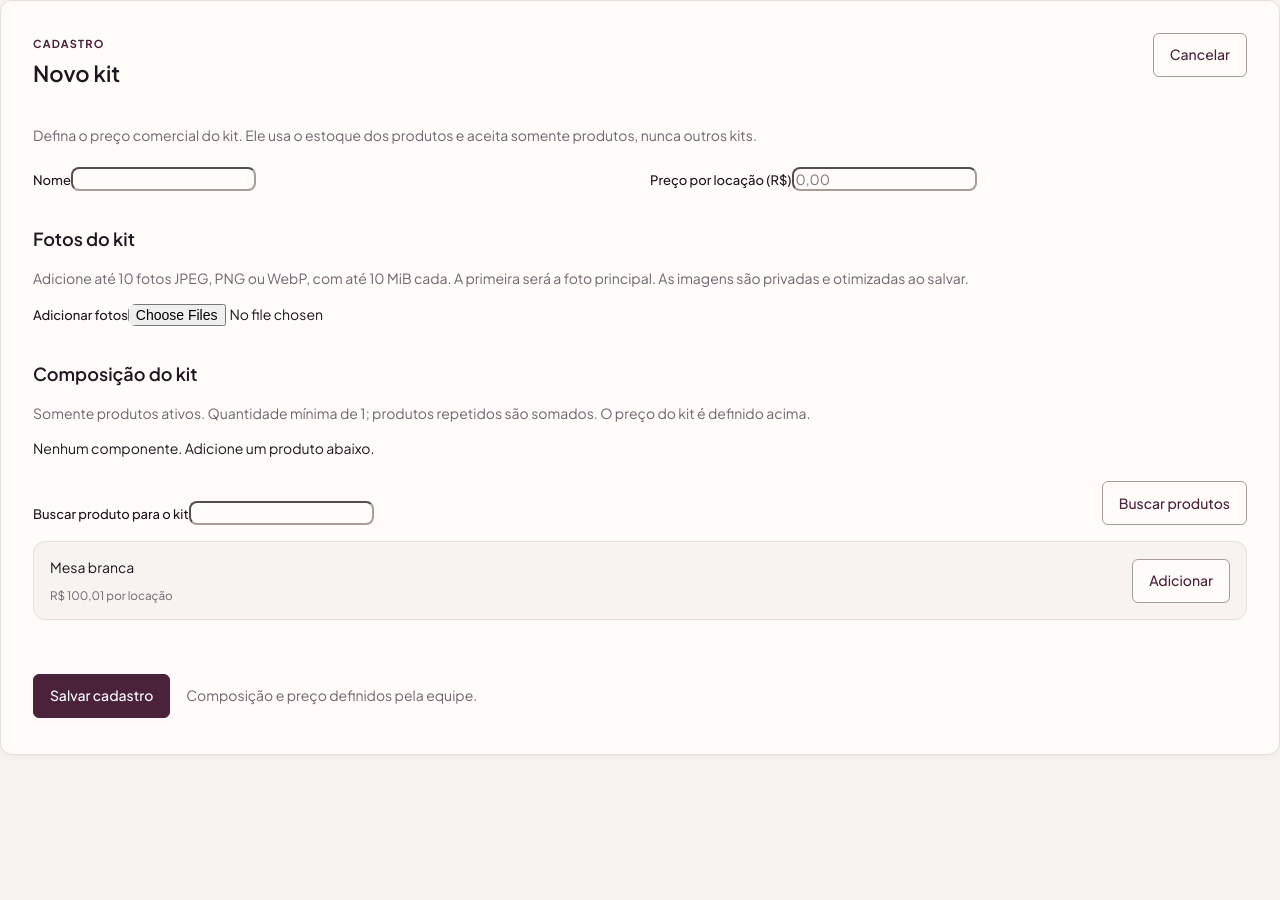
Scenario: catalog interface › composes kits from active products only with own price and aggregated rows
The image size is (1280, 900).
Expected: the text "nunca outros kits" is shown, left=33, top=126, right=757, bottom=144
Click the button named "Adicionar Mesa branca" at (1181, 581), box left=1132, top=559, right=1230, bottom=603
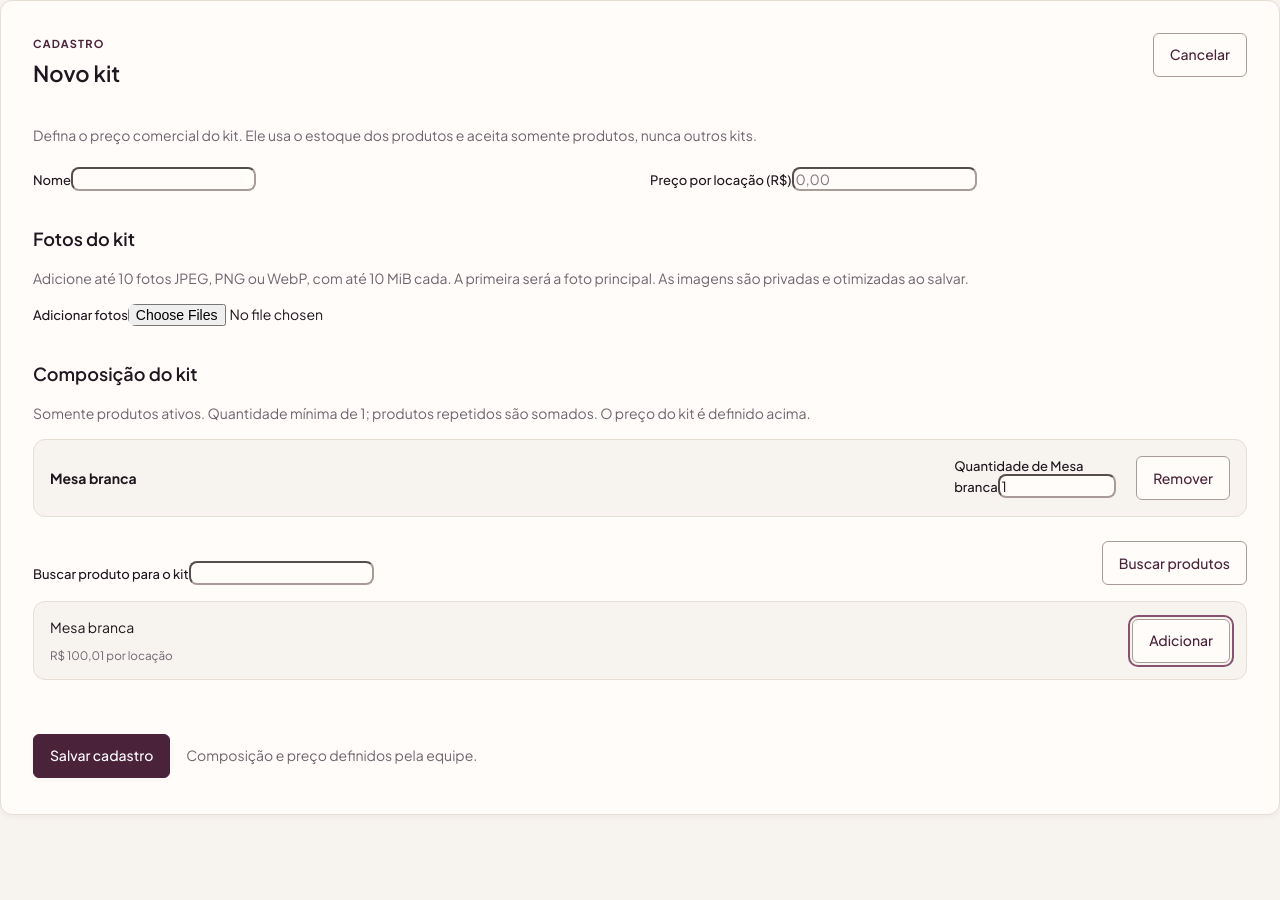
Click the button named "Adicionar Mesa branca" at (1181, 641), box left=1132, top=619, right=1230, bottom=663
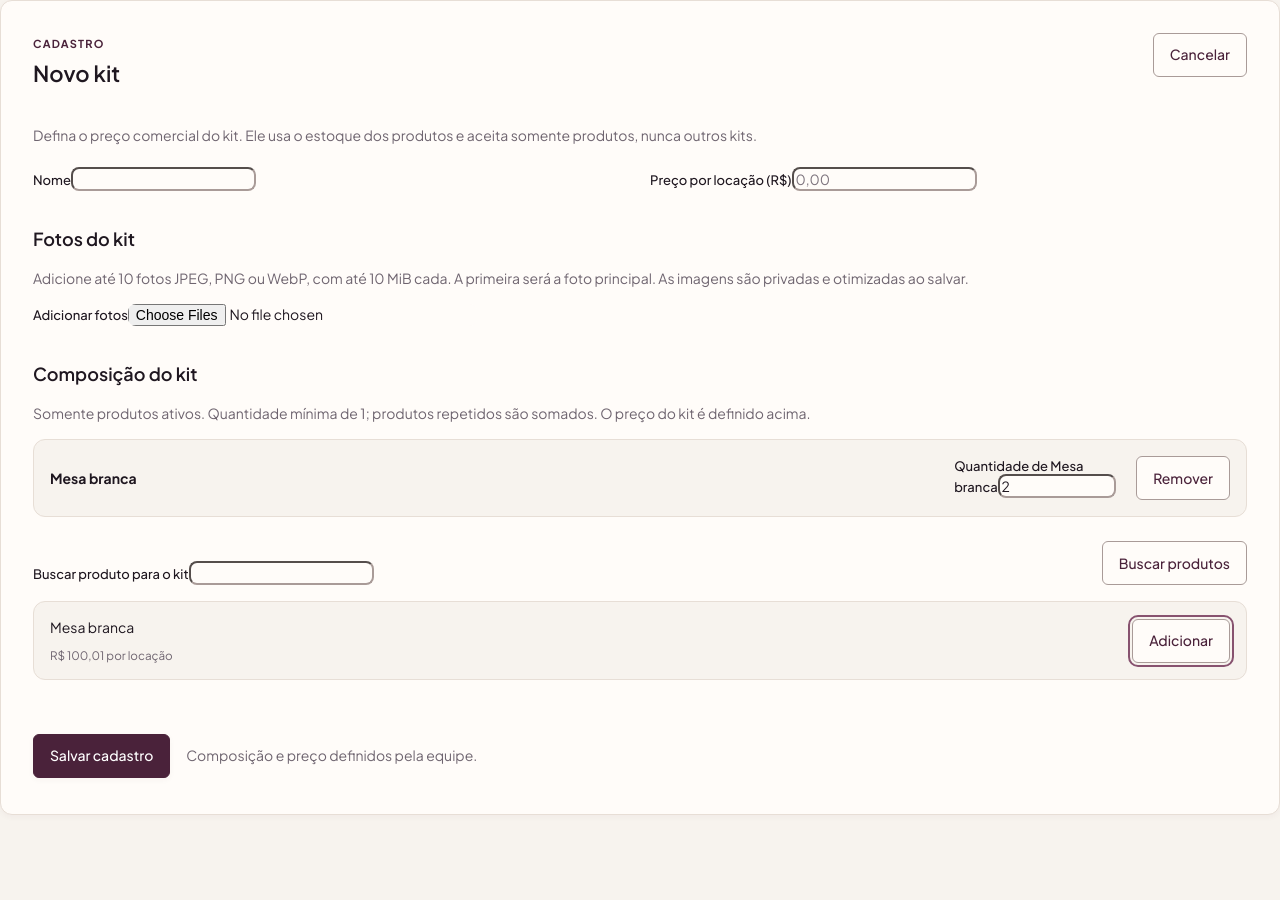
Result: the number field labelled "Quantidade de Mesa branca" holds "2" at left=998, top=474, right=1116, bottom=498
Click the button named "Remover Mesa branca" at (1183, 478), box left=1136, top=456, right=1230, bottom=500
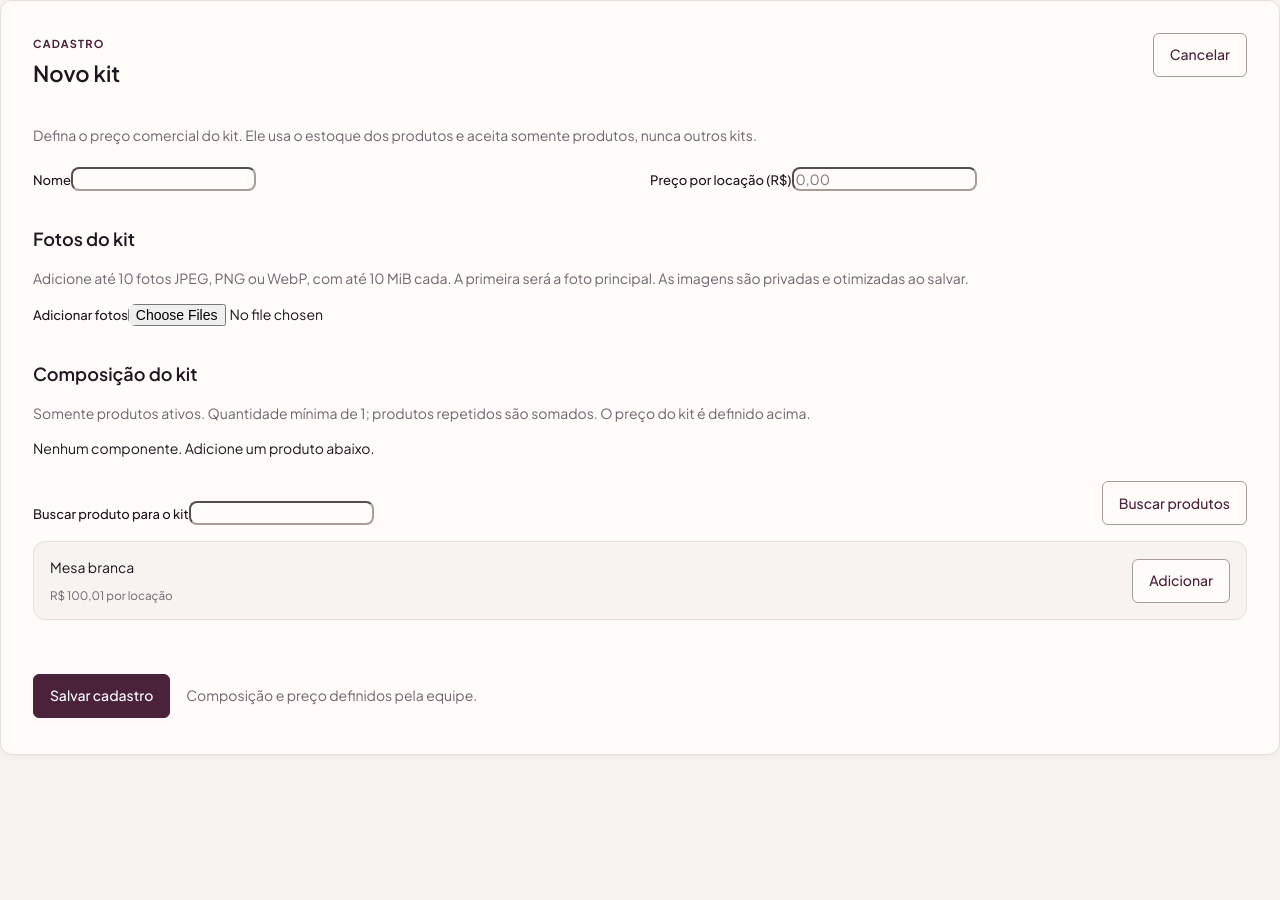
Result: the text "Nenhum componente. Adicione um produto abaixo." is shown at left=33, top=440, right=374, bottom=458
